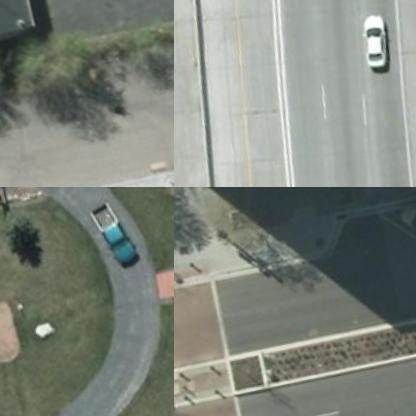car: (88, 200, 144, 278), (358, 18, 398, 74), (396, 196, 415, 263)
